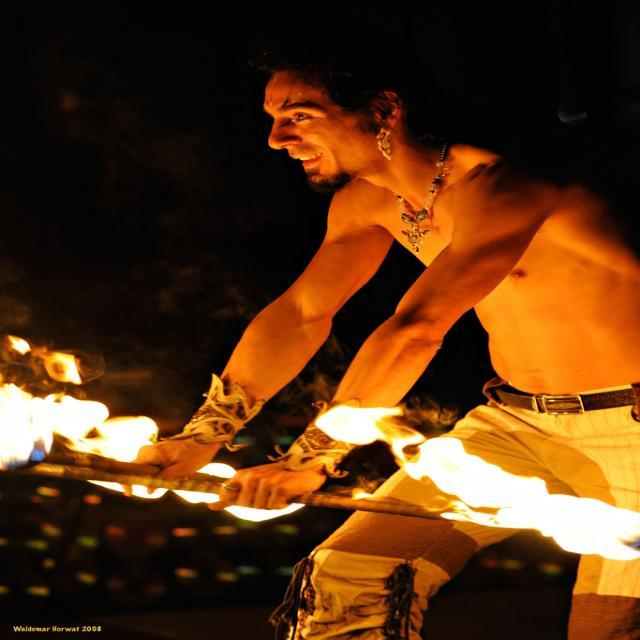Fire: (459, 476, 628, 540), (12, 397, 134, 469)
